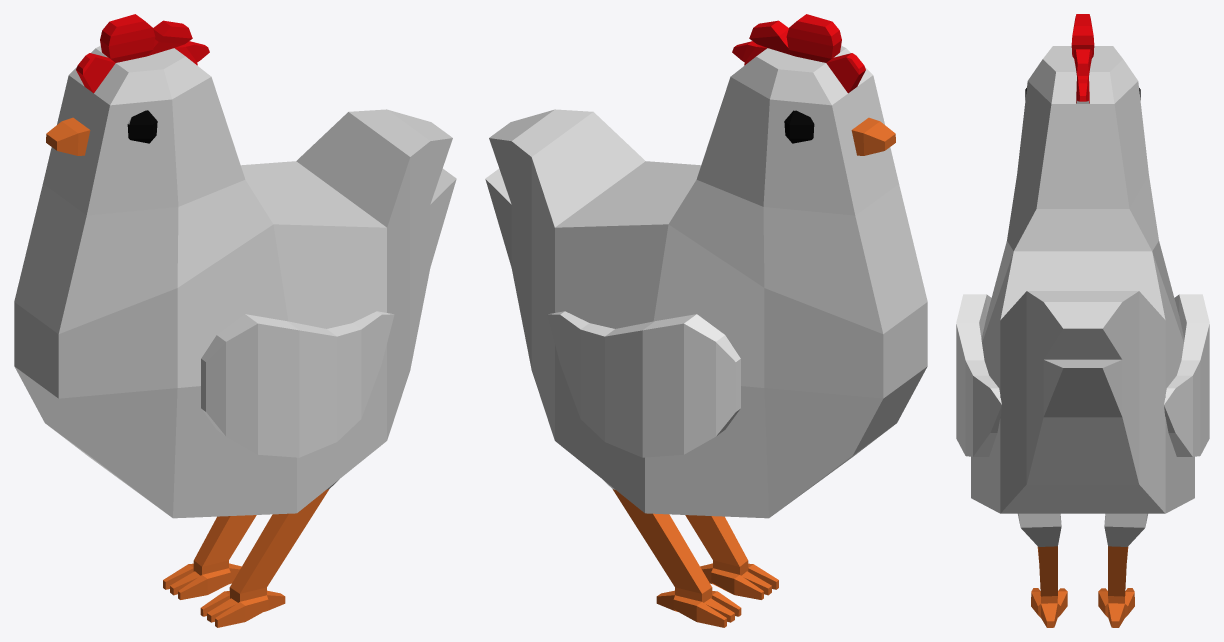
Rendered from chicken.fbx.
3 views of the same model, side by side, from view 1: azimuth 30°, elevation 25°; view 2: azimuth 150°, elevation 25°; view 3: azimuth 270°, elevation 25° (orthographic). The views are drawn at different scales.
Parts seen in each view (by area): view 1: CHİCKEN, WİNG; view 2: CHİCKEN, WİNG; view 3: CHİCKEN, WİNG.
Boxes of the visible parts, left/top/right/bottom form: CHİCKEN: left=14, top=14, right=456, bottom=627; WİNG: left=201, top=311, right=394, bottom=457; CHİCKEN: left=485, top=14, right=927, bottom=627; WİNG: left=547, top=311, right=740, bottom=457; CHİCKEN: left=971, top=14, right=1194, bottom=627; WİNG: left=956, top=294, right=1209, bottom=456.
Bounding box in the file's own units: 168 × 237 × 99.53.
